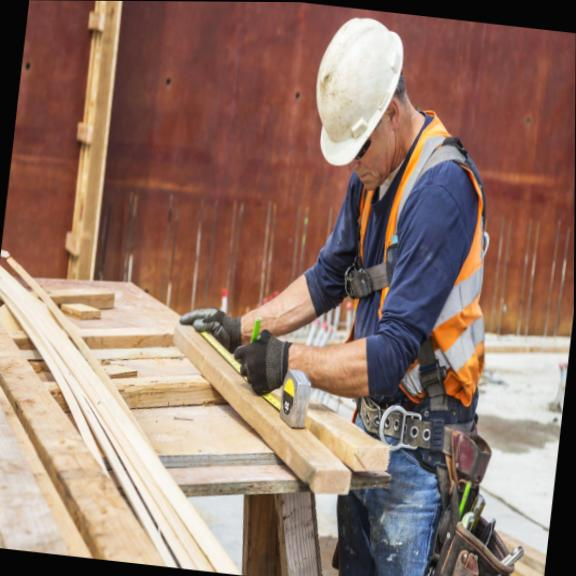safety_vest: (338, 114, 510, 450)
